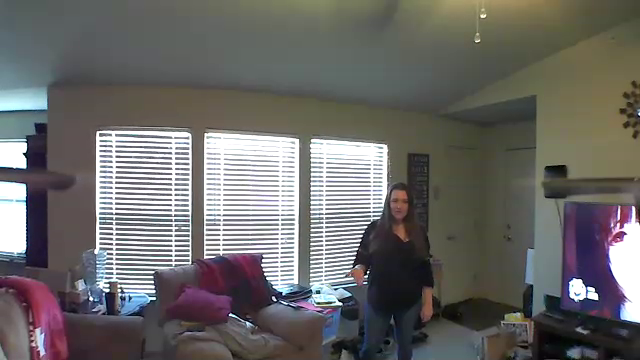land: (341, 265, 369, 289)
